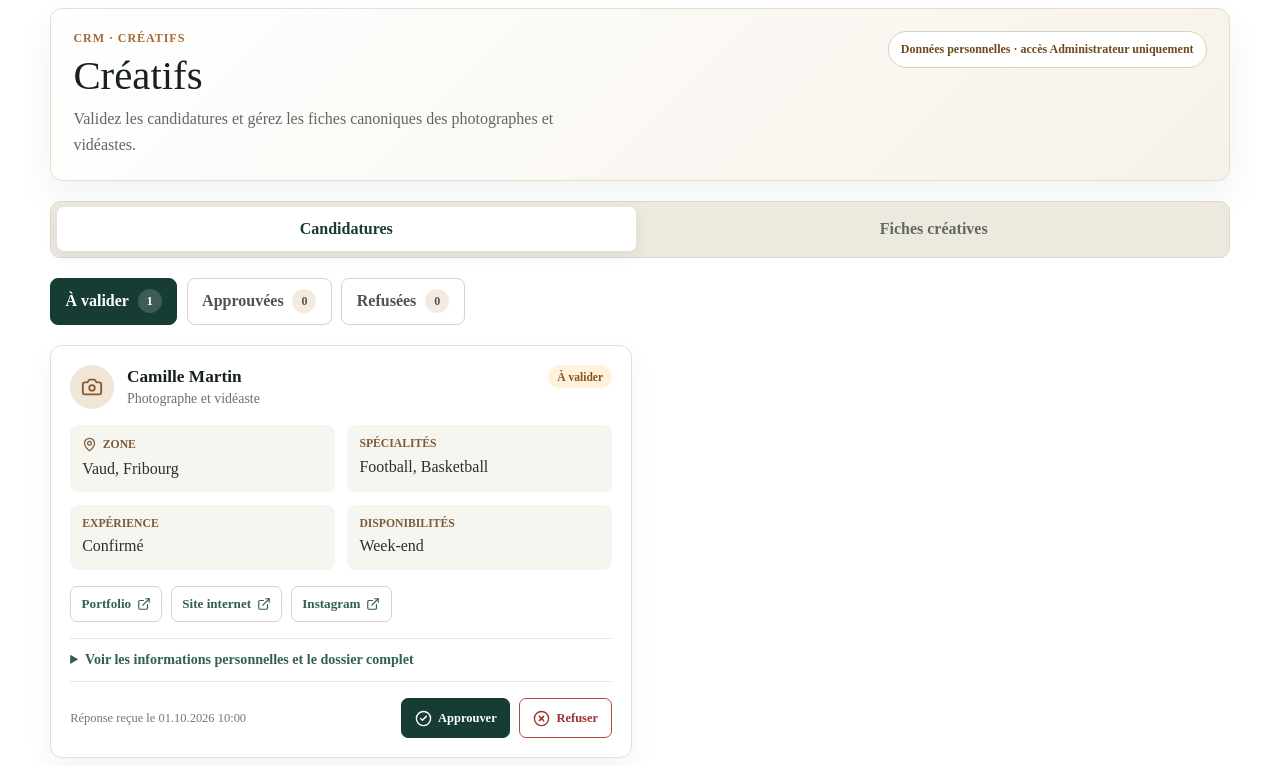
Test: Creative applications Admin UI › shows safe API action errors
Click the button "Approuver": (456, 718) [401,698,510,738]
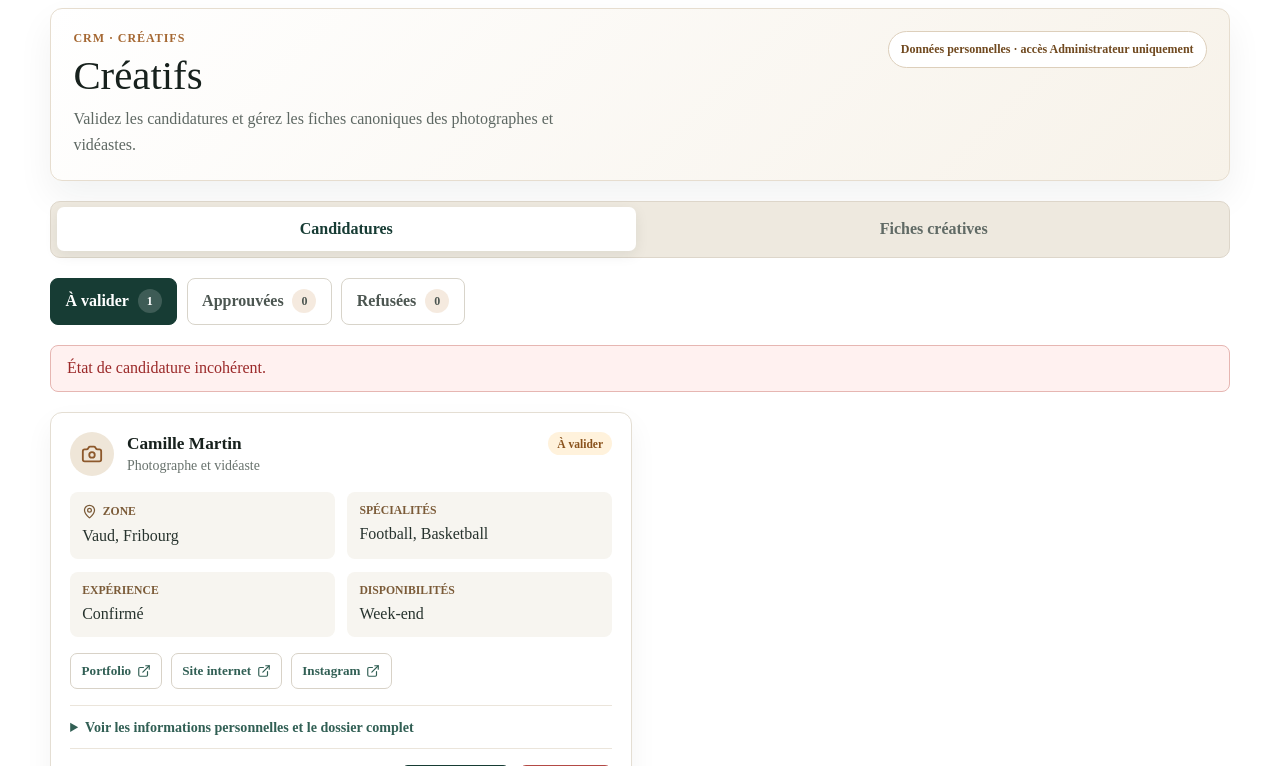
Expected: the message "État de candidature incohérent." is shown, [50,345,1230,392]
